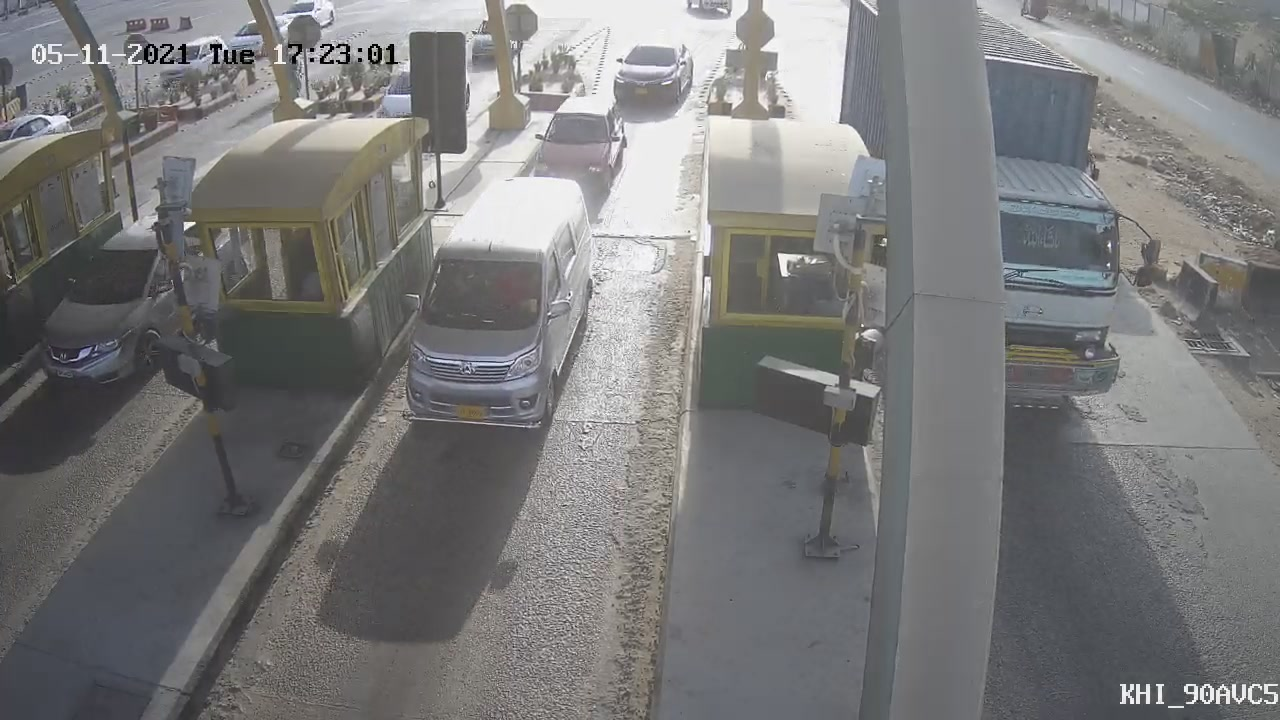F1: (399, 166, 605, 447), (514, 82, 642, 208)
